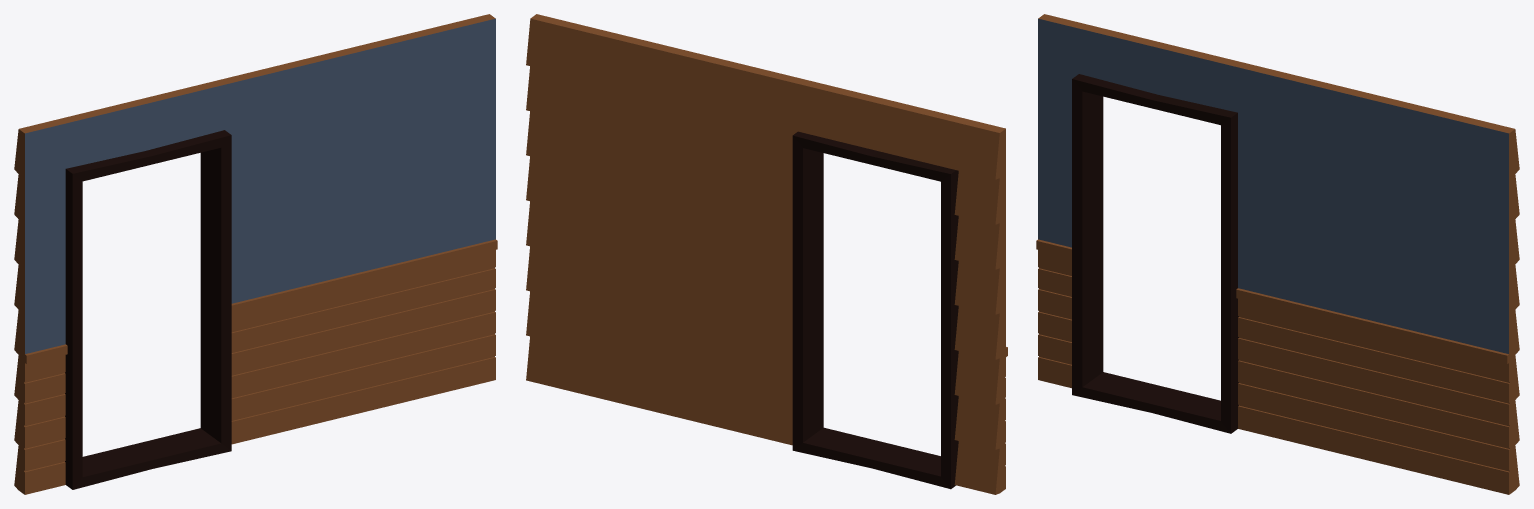
The model's file is ww_wall_door_d.glb.
The picture shows the model from 3 angles, left to right: view 1: azimuth 30°, elevation 25°; view 2: azimuth 150°, elevation 25°; view 3: azimuth 330°, elevation 25°; orthographic projection.
Visible parts, largest first — view 1: Wall_Door_D; view 2: Wall_Door_D; view 3: Wall_Door_D.
Boxes of the visible parts, bbox=[...] form: Wall_Door_D: bbox=[14, 14, 497, 494]; Wall_Door_D: bbox=[526, 14, 1007, 494]; Wall_Door_D: bbox=[1036, 14, 1519, 494].
Bounding box in the file's own units: 4.8 × 3.52 × 0.3744.
